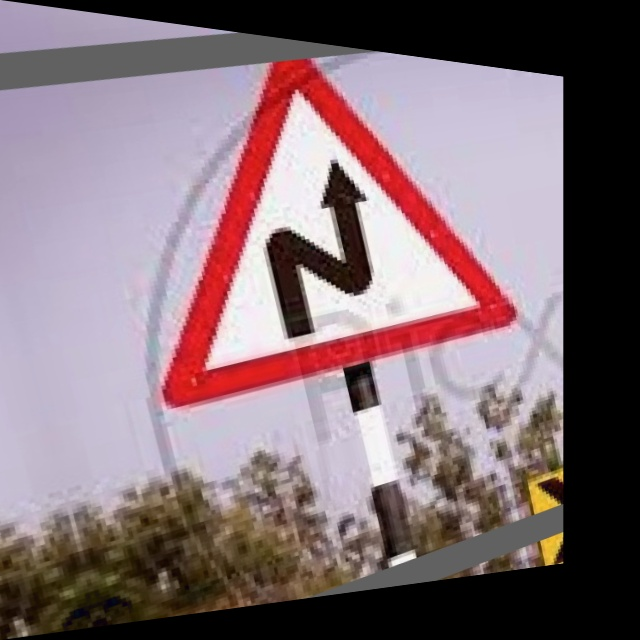Right_Reverse_Bend: (108, 15, 513, 412)
